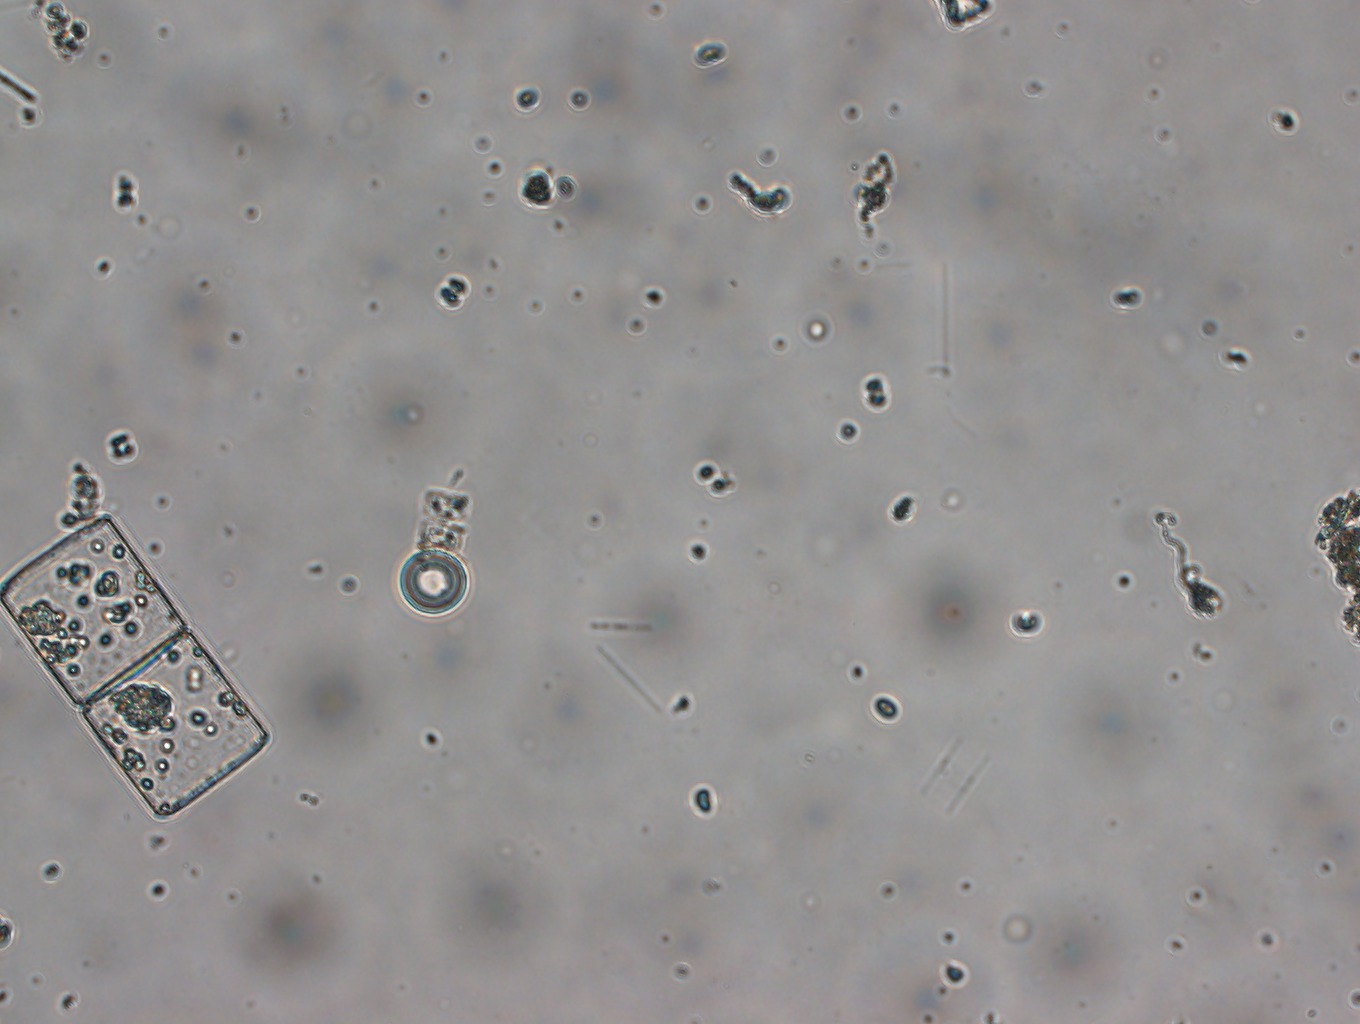guinardia flaccida: (1, 515, 269, 819)
